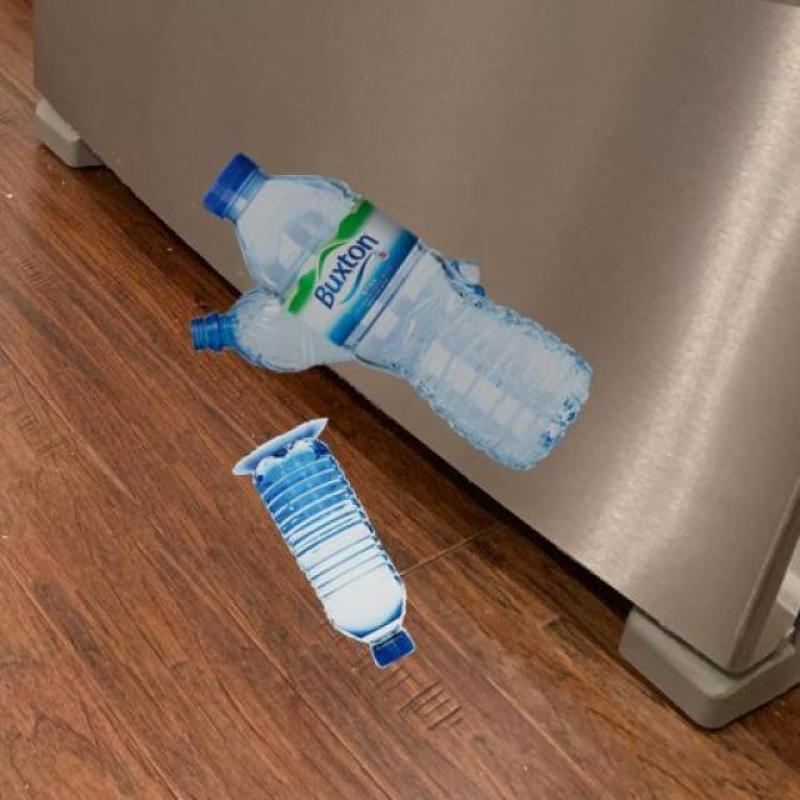botella: (200, 149, 595, 469), (252, 433, 418, 668), (192, 263, 486, 373)
